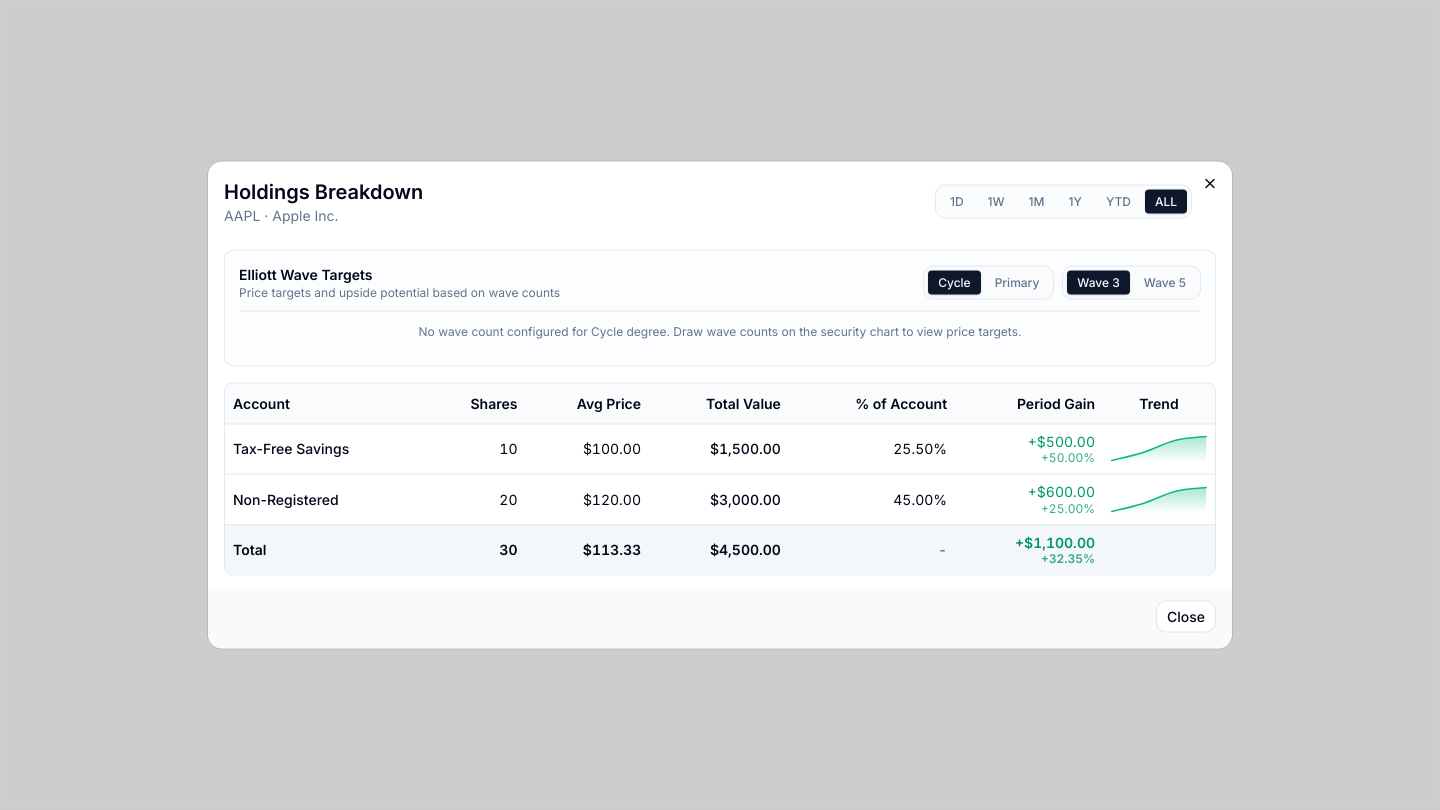
HoldingsModal Component › Elliott Wave Targets panel › displays negative downside % with rose styling when target < current price
This screenshot has width=1440, height=810.
Click the button "Primary".
click(1017, 282)  # box [985,270,1049,294]
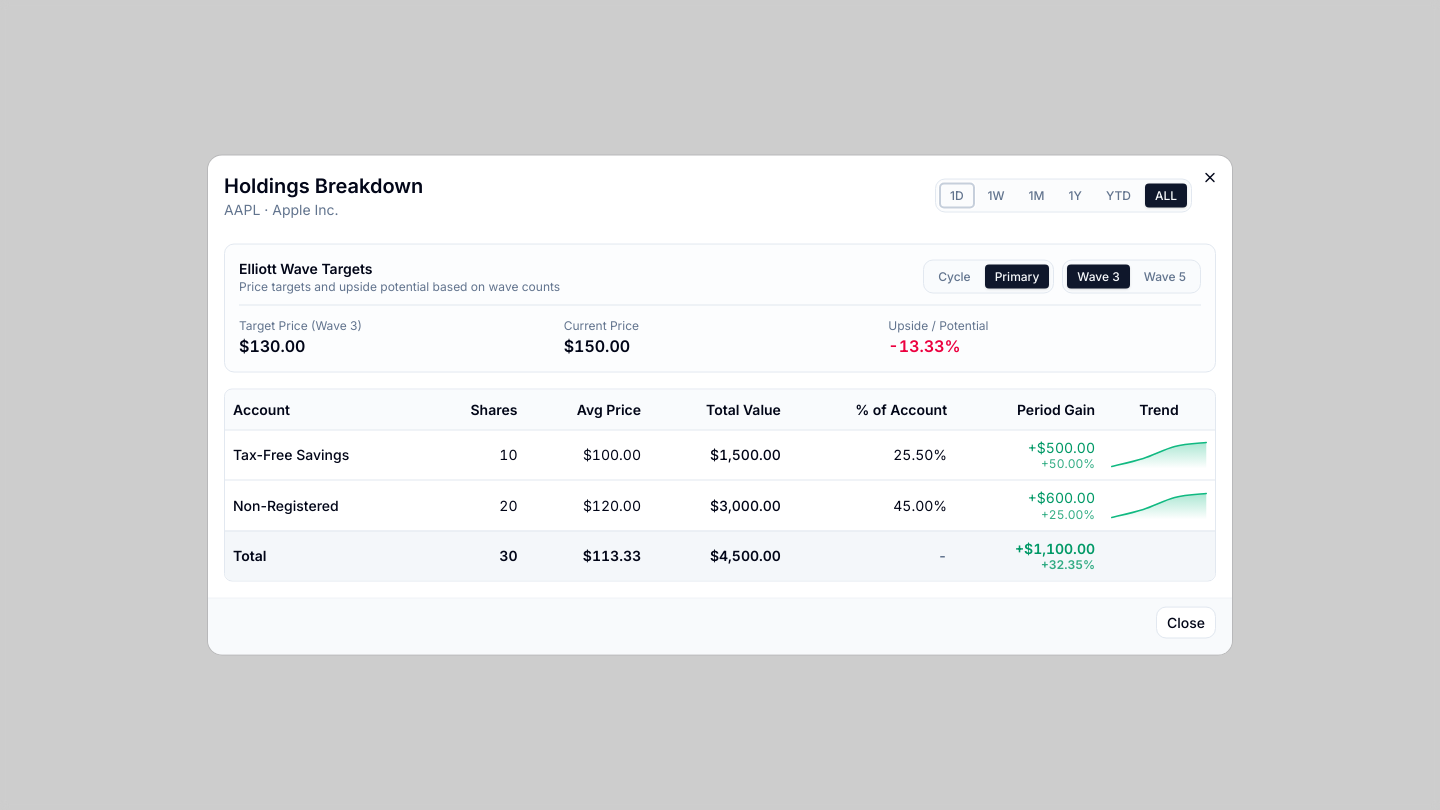
expect the text with test id "wave-target-price" reads "$130.00": met, box [239,336,306,356]
expect the element with test id "wave-upside-percent" reads "-13.33%": met, box [888,336,960,356]
